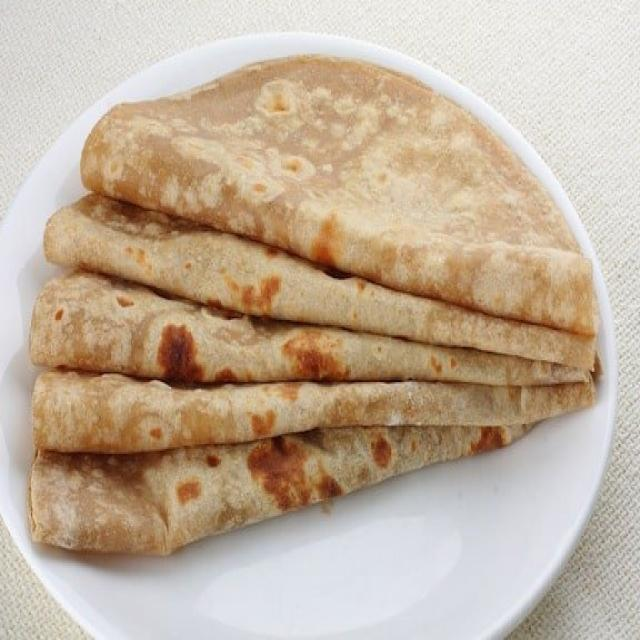CHAPATHI: (27, 60, 599, 559)
